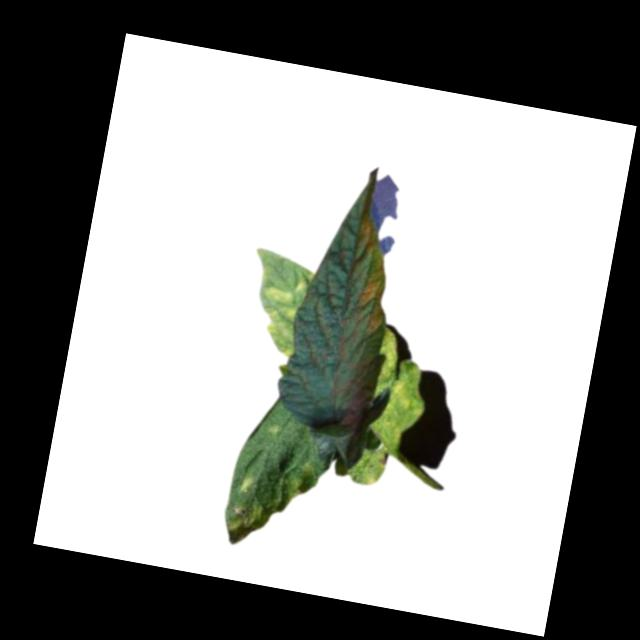Leaf_Mold: (219, 449, 318, 557), (361, 329, 436, 455), (252, 263, 312, 359), (347, 265, 390, 335), (352, 213, 380, 253)
